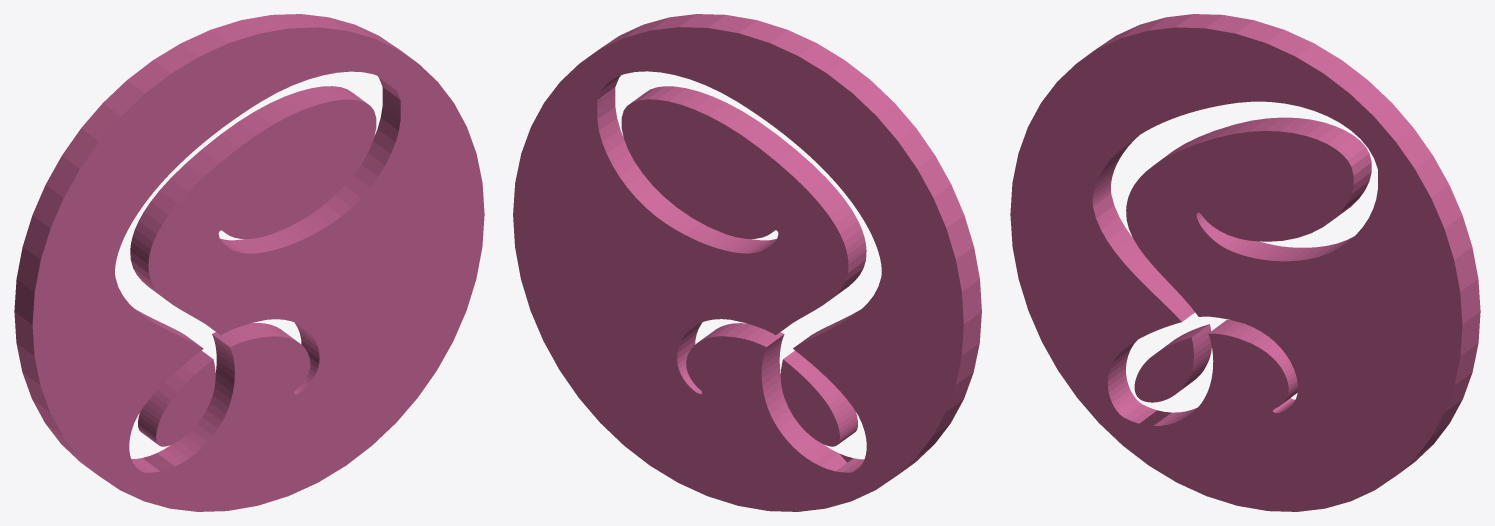
The model's file is Sass.glb.
The picture shows the model from 3 angles, left to right: view 1: azimuth 30°, elevation 25°; view 2: azimuth 150°, elevation 25°; view 3: azimuth 330°, elevation 25°; orthographic projection.
Parts seen in each view (by area): view 1: Curve; view 2: Curve; view 3: Curve.
Boxes of the visible parts, x1,y1,x2,y2 form: Curve: (14,14,484,511); Curve: (513,14,981,511); Curve: (1010,14,1480,511).
Size of the model in its own units: 0.6773 by 0.6774 by 0.0501.
